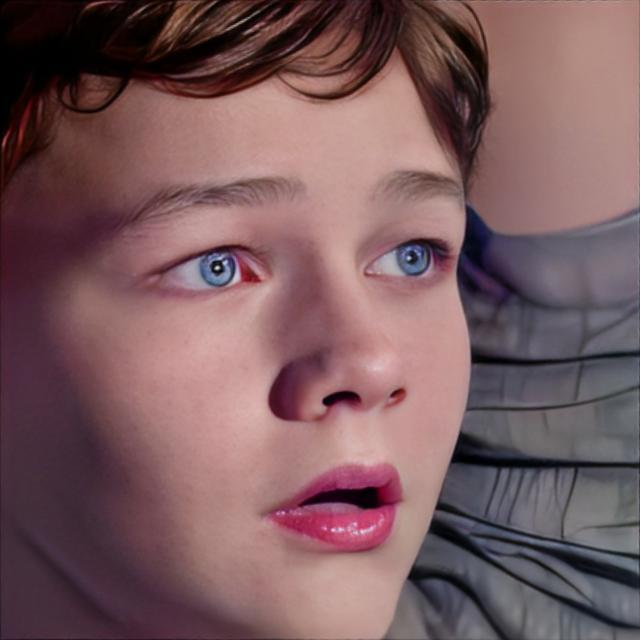surprise: (0, 1, 476, 637)
